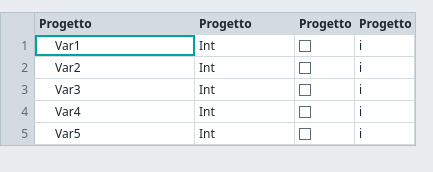
Scenario: DataGrid › suggerimenti di tipo filtrati mentre si scrive
The width and height of the screenshot is (433, 172).
Click the cell "Int" next to "Var1". click: (245, 46)
box: [195, 35, 295, 56]
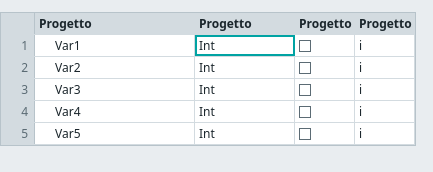
Type keys "Di"
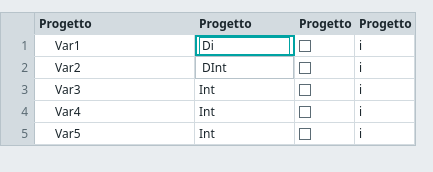
Check: the options read "DInt", in this order, box [202, 59, 227, 76]
Press Backspace
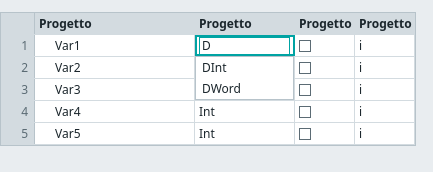
Check: the list is shown, box [195, 56, 294, 100]
Press Arrowdown Arrowdown Arrowup Enter
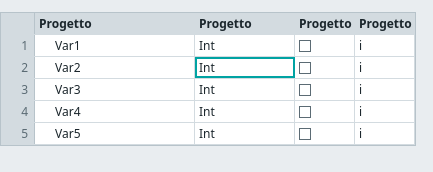
Check: the list is gone
